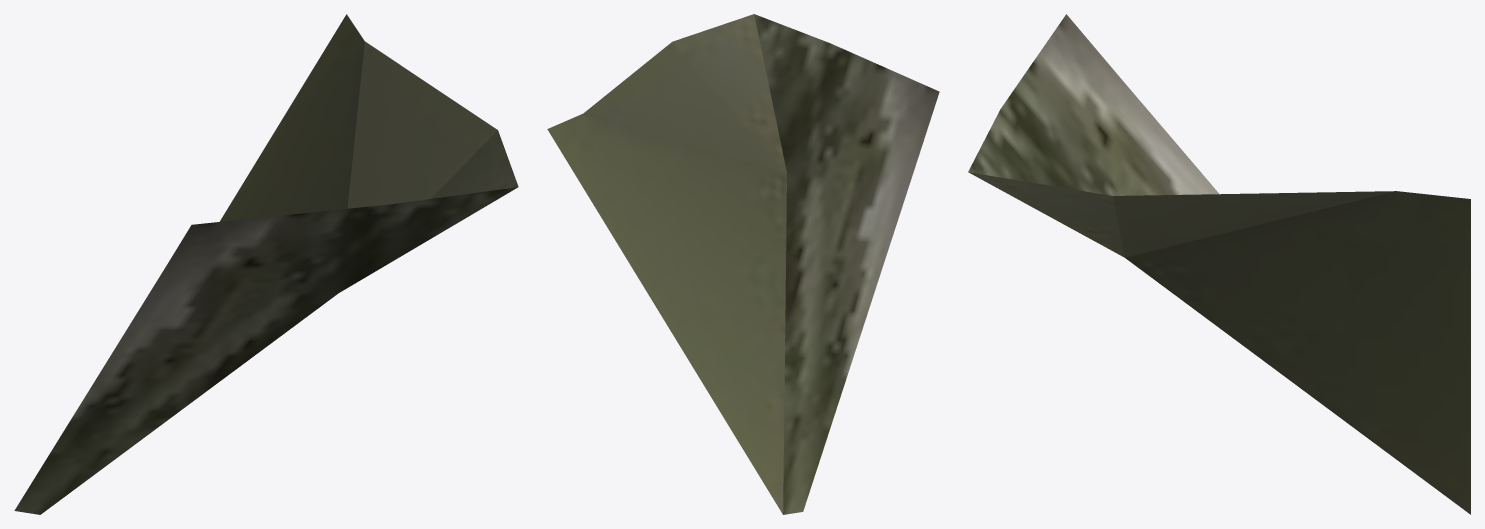
The picture shows the model from 3 angles, left to right: view 1: azimuth 30°, elevation 25°; view 2: azimuth 150°, elevation 25°; view 3: azimuth 270°, elevation 25°; orthographic projection. The views are drawn at different scales.
Size of the model in its own units: 0.4233 by 0.5188 by 0.4861.
1 material, 1 textured.
